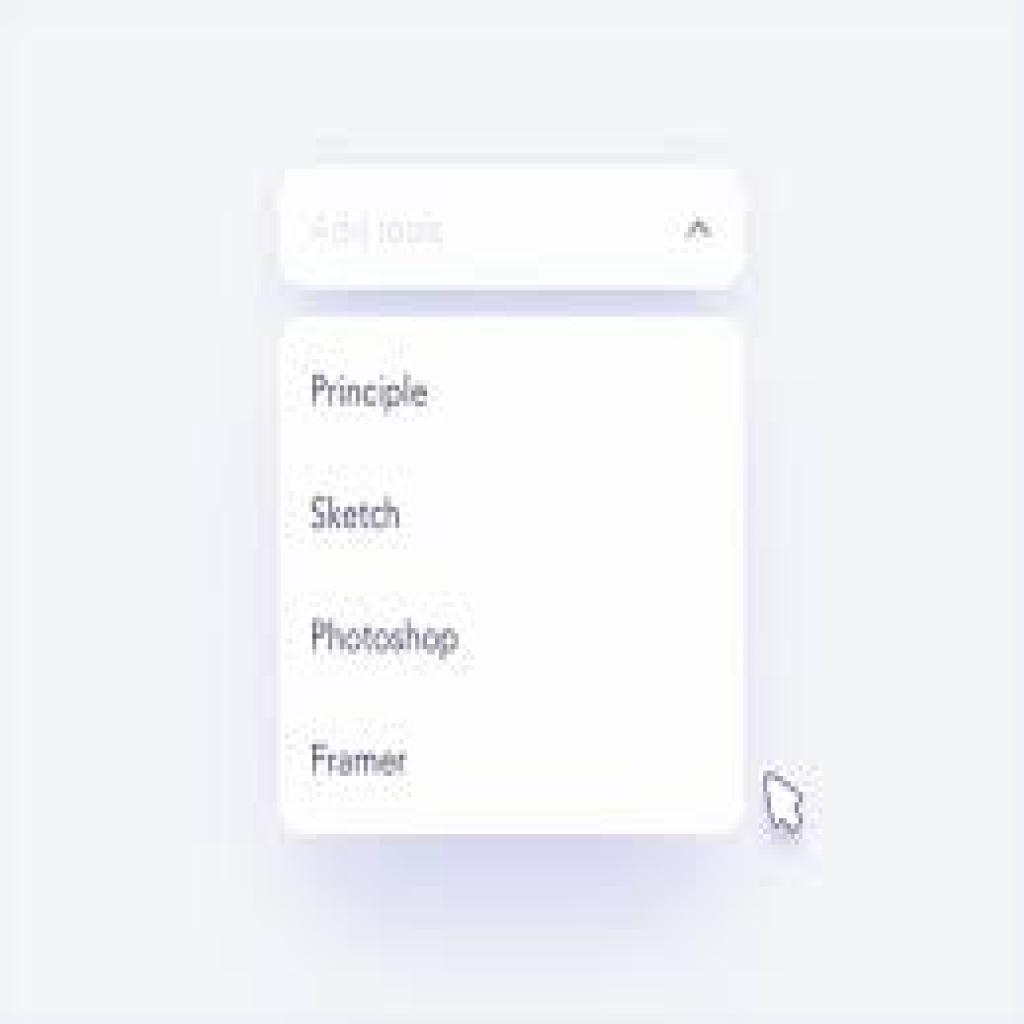dropdown: (278, 167, 748, 290)
